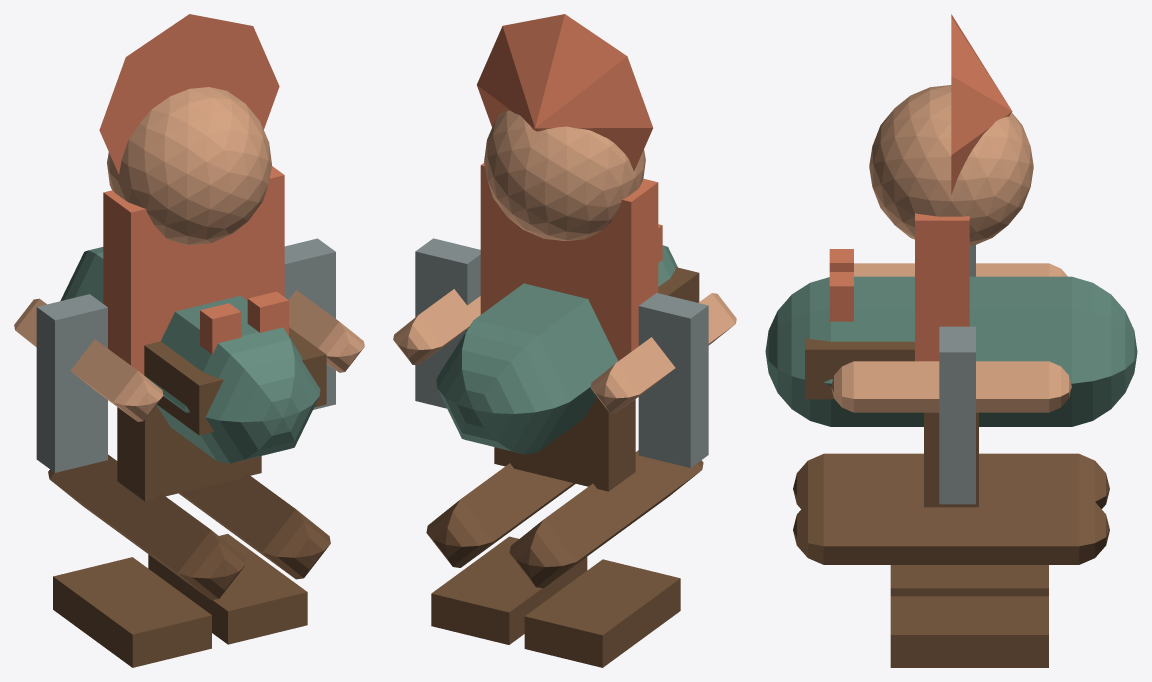
File: original_cc0_runner.glb
3 views of the same model, side by side, from view 1: azimuth 30°, elevation 25°; view 2: azimuth 150°, elevation 25°; view 3: azimuth 270°, elevation 25° (orthographic). The views are drawn at different scales.
Visible parts, largest first — view 1: Head, Scarf, Torso, Hood, BootR, ForearmGuardR, LegR, LegL, Belt, BootL, Backpack, ArmR (+4 smaller); view 2: Torso, Scarf, Hood, Head, BootR, ForearmGuardR, LegR, BootL, LegL, Belt, ForearmGuardL, ArmR (+2 smaller); view 3: Torso, LegL, Head, BootL, LegR, ArmL, Scarf, ForearmGuardL, BootR, Hood, Backpack, ArmR (+3 smaller).
Part boxes in pixels (x1,y1,x2,y2): Head: [107, 87, 271, 244]; Scarf: [103, 166, 284, 374]; Torso: [60, 247, 320, 463]; Hood: [99, 14, 279, 174]; BootR: [53, 557, 211, 667]; ForearmGuardR: [36, 294, 107, 472]; LegR: [48, 454, 245, 599]; LegL: [179, 472, 330, 579]; Belt: [117, 405, 261, 501]; BootL: [148, 534, 307, 644]; Backpack: [144, 327, 326, 435]; ArmR: [14, 298, 163, 421]; Torso: [436, 245, 677, 454]; Scarf: [480, 163, 658, 360]; Hood: [477, 14, 652, 171]; Head: [484, 110, 645, 240]; BootR: [524, 559, 680, 667]; ForearmGuardR: [638, 293, 708, 467]; LegR: [509, 450, 703, 588]; BootL: [431, 536, 587, 644]; LegL: [426, 463, 575, 567]; Belt: [494, 397, 635, 491]; ForearmGuardL: [415, 238, 480, 408]; ArmR: [590, 293, 736, 413]; Torso: [765, 276, 1137, 426]; LegL: [793, 495, 1109, 564]; Head: [869, 85, 1033, 246]; BootL: [890, 596, 1048, 667]; LegR: [793, 453, 1109, 508]; ArmL: [831, 361, 1071, 412]; Scarf: [915, 213, 969, 361]; ForearmGuardL: [939, 326, 975, 504]; BootR: [890, 565, 1048, 596]; Hood: [951, 14, 1012, 194]; Backpack: [805, 338, 914, 399]; ArmR: [854, 263, 1067, 276].
Bounding box in the file's own units: 1.06 × 2.2 × 1.22.
